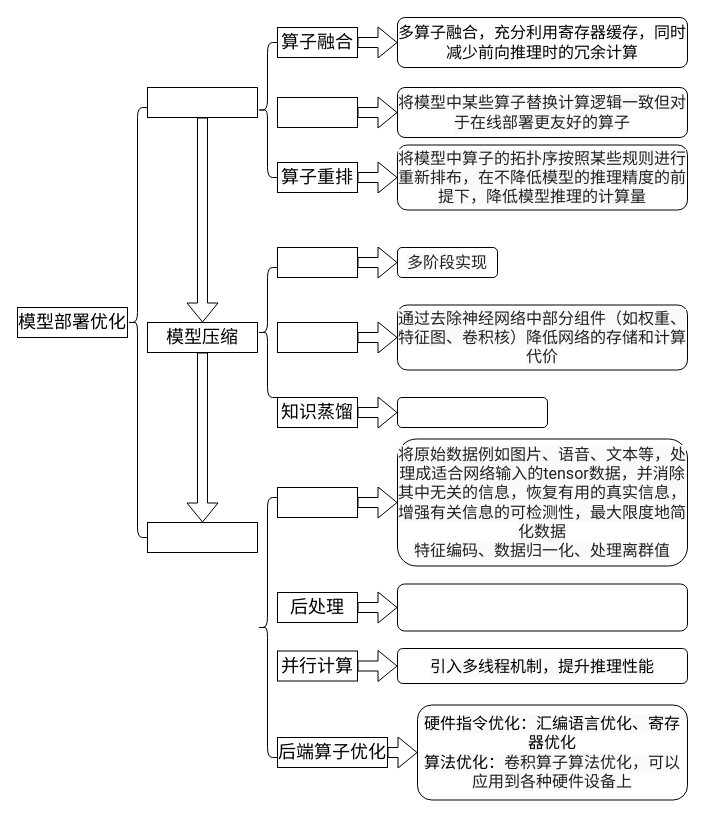
The diagram is 705 pixels wide and 818 high, and some of its shapes have lost their labels. Here are the shapes that lost their labels. From the top down, the centre of each, then its label:
pixel 202 102: 前端算子优化
pixel 317 112: 算子替换
pixel 317 262: 模型量化
pixel 317 337: 模型稀疏
pixel 472 412: 模型训练阶段实现
pixel 317 502: 前处理
pixel 202 537: 模型推理
pixel 542 607: 连续数据离散化、数据可视化、手动拉宽预测范围
